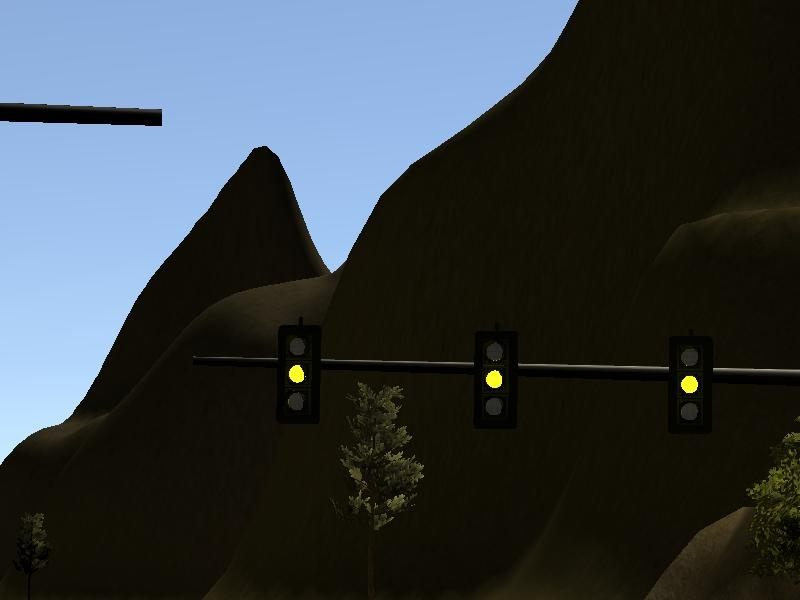yellow: (476, 331, 519, 431), (669, 339, 712, 436), (279, 327, 321, 424)
